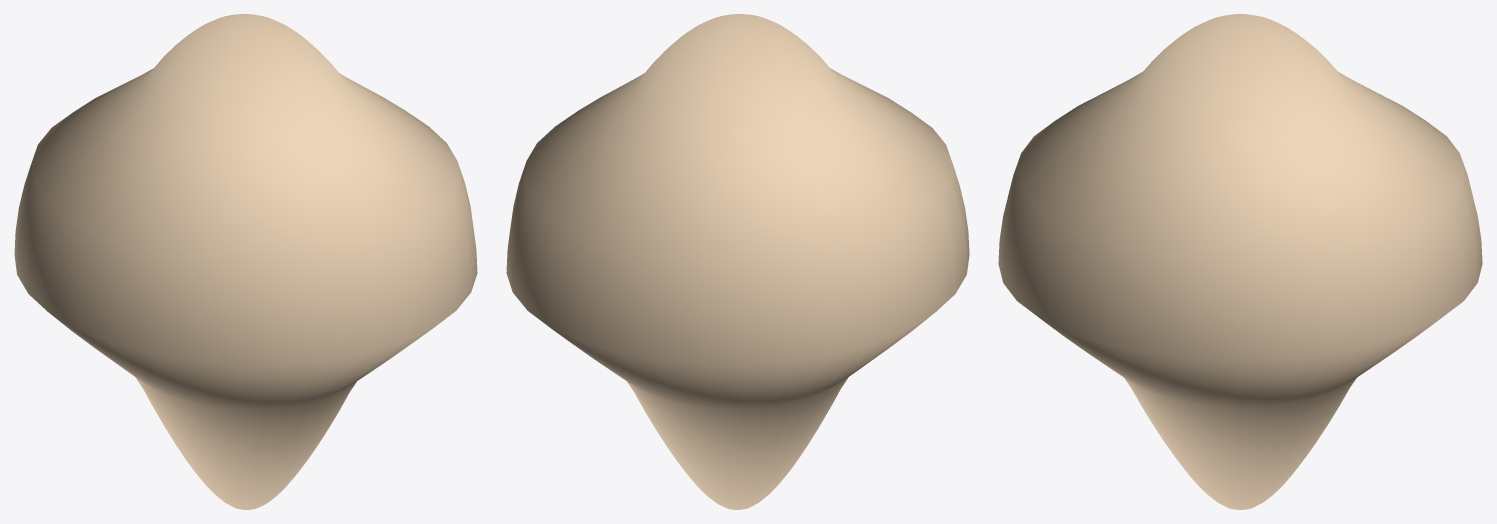
The model's file is diamond.glb.
3 views of the same model, side by side, from view 1: azimuth 30°, elevation 25°; view 2: azimuth 150°, elevation 25°; view 3: azimuth 270°, elevation 25° (orthographic).
Visible parts, largest first — view 1: Head_diamond; view 2: Head_diamond; view 3: Head_diamond.
Part boxes in pixels (<box>): Head_diamond: <box>14,14,477,509</box>; Head_diamond: <box>506,14,969,509</box>; Head_diamond: <box>998,14,1482,509</box>.
Bounding box in the file's own units: 1.87 × 2.2 × 1.98.
